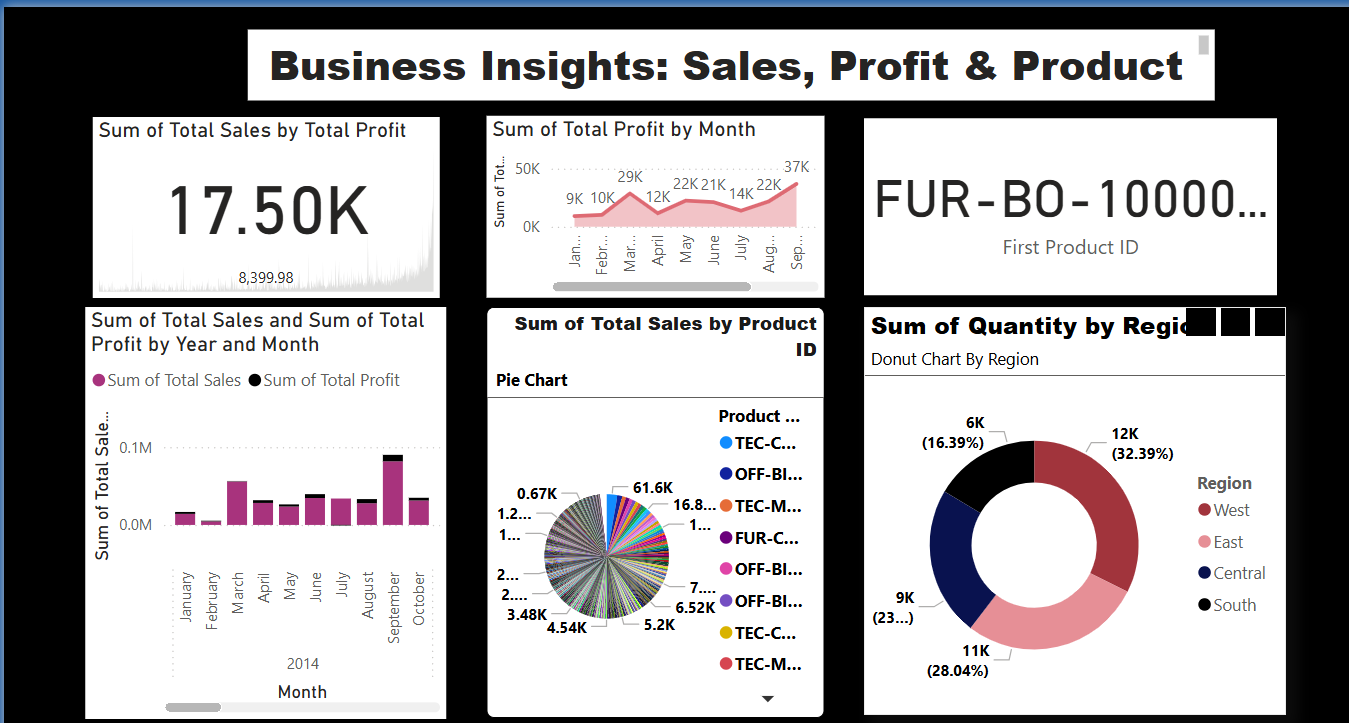

The dashboard page shown, as its layout file describes it:
{"tool":"powerbi","page":{"name":"Business Insights: Sales, Profit & Product Analysis","canvas":[1280,720],"ordinal":0},"visuals":[{"type":"columnChart","fields":{"Category":["Orders.Order Date.Variation.Date Hierarchy.Year","Orders.Order Date.Variation.Date Hierarchy.Month"],"Y":["Sum(Orders.Total Sales)","Sum(Orders.Total Profit)"]},"box":[65,240,289,330],"z":0},{"type":"pieChart","fields":{"Category":["Orders.Product ID"],"Y":["Sum(Orders.Total Sales)"]},"box":[386,240,271,329],"z":1000},{"type":"donutChart","fields":{"Category":["Orders.Region"],"Y":["Sum(Orders.Quantity)"]},"box":[688,240,338,327],"z":2000},{"type":"kpi","fields":{"TrendLine":["Orders.Total Profit"],"Indicator":["Sum(Orders.Total Sales)"]},"box":[71,88,278,145],"z":3000},{"type":"lineChart","fields":{"Category":["Orders.Order Date.Variation.Date Hierarchy.Month"],"Y":["Sum(Orders.Total Profit)"]},"box":[386,87,271,146],"z":4000},{"type":"card","fields":{"Values":["Min(Orders.Product ID)"]},"box":[688,89,331,142],"z":5000},{"type":"textbox","box":[195,18,774,57],"z":6000}]}

Visuals, with their boxes on the page's 1280x720 design canvas (x1, y1, x2, y2). These are canvas units, not pixel positions in the 1349x723 screenshot, which may show the page scaled, cropped or inside an application window:
columnChart - Orders.Order Date.Variation.Date Hierarchy.Year x Orders.Order Date.Variation.Date Hierarchy.Month: [left=65, top=240, right=354, bottom=570]
pieChart - Orders.Product ID x Sum(Orders.Total Sales): [left=386, top=240, right=657, bottom=569]
donutChart - Orders.Region x Sum(Orders.Quantity): [left=688, top=240, right=1026, bottom=567]
kpi - Orders.Total Profit x Sum(Orders.Total Sales): [left=71, top=88, right=349, bottom=233]
lineChart - Orders.Order Date.Variation.Date Hierarchy.Month x Sum(Orders.Total Profit): [left=386, top=87, right=657, bottom=233]
card - Min(Orders.Product ID): [left=688, top=89, right=1019, bottom=231]
textbox: [left=195, top=18, right=969, bottom=75]
